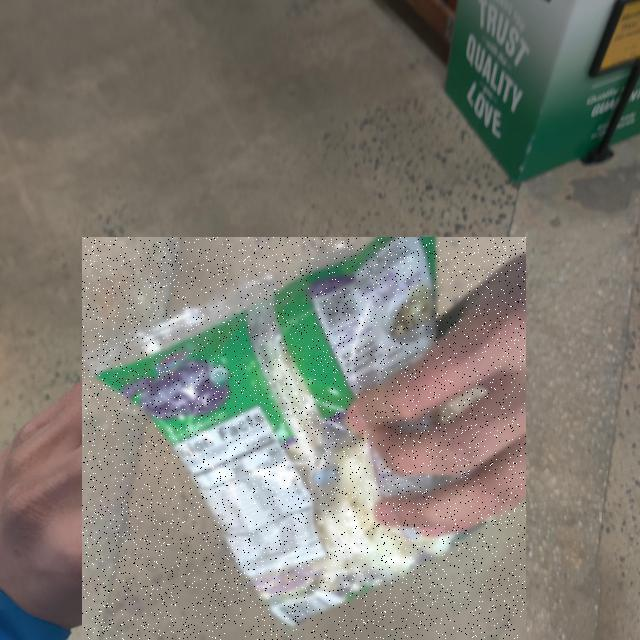cheese: (41, 0, 123, 557)
